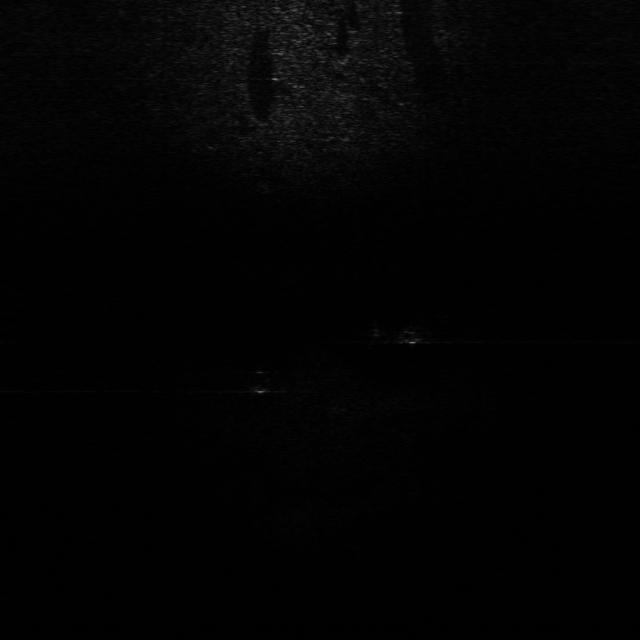ball: (243, 362, 274, 400)
human body: (364, 315, 448, 349)
